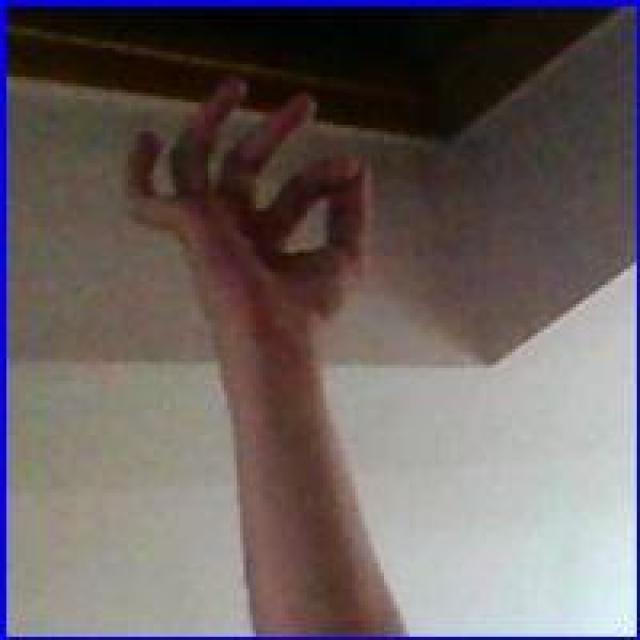F: (122, 76, 380, 362)
